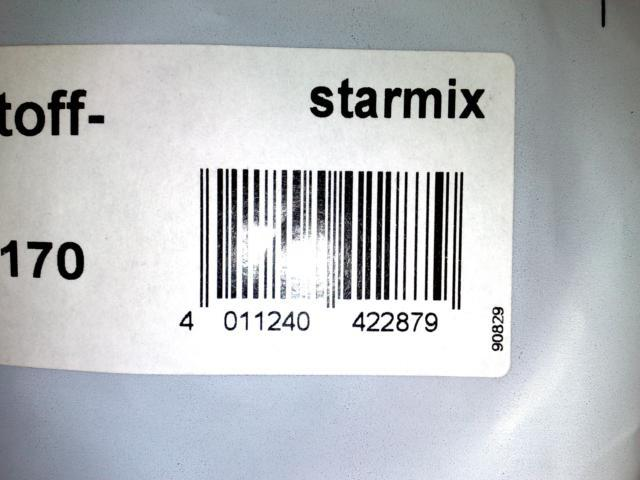Barcode: (173, 160, 473, 344)
